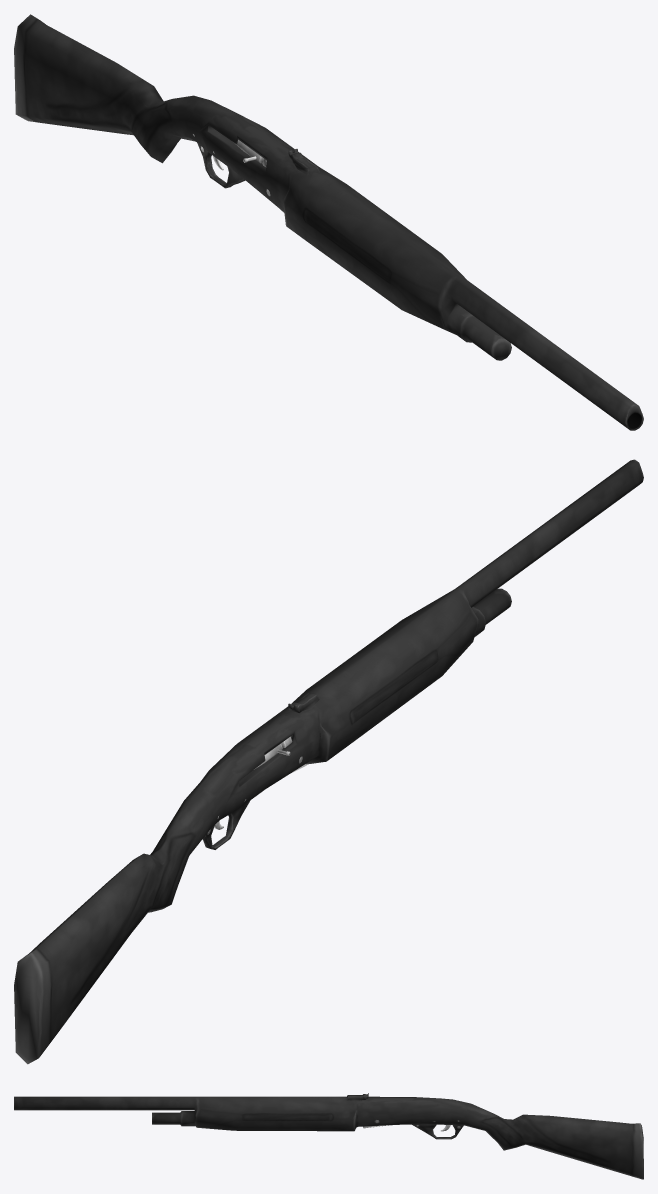
3 views of the same model, one above another, from view 1: azimuth 30°, elevation 25°; view 2: azimuth 150°, elevation 25°; view 3: azimuth 270°, elevation 25° (orthographic). The views are drawn at different scales.
Visible parts, largest first — view 1: MP-153; view 2: MP-153; view 3: MP-153.
Part boxes in pixels (x1,y1,x2,y2): MP-153: (14,14,643,430); MP-153: (14,459,643,1064); MP-153: (14,1093,643,1179).
Size of the model in its own units: 5.71 by 18.78 by 125.
